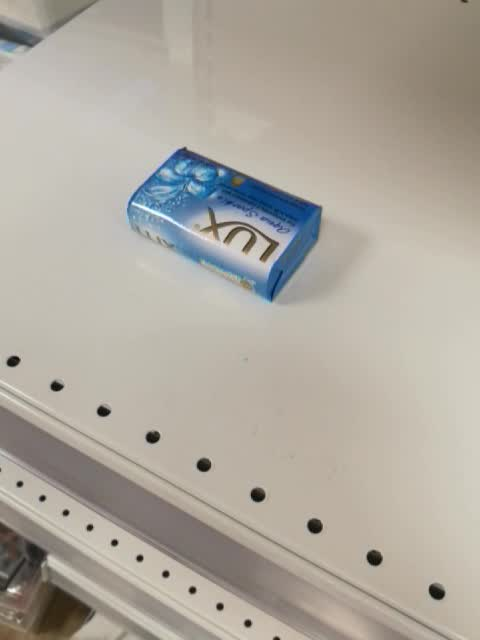soap: (125, 146, 323, 304)
